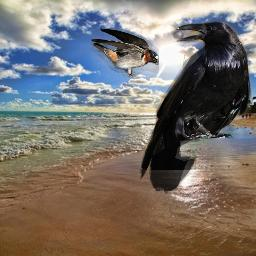Crow: (140, 21, 252, 194)
Swallow: (91, 28, 159, 79)
